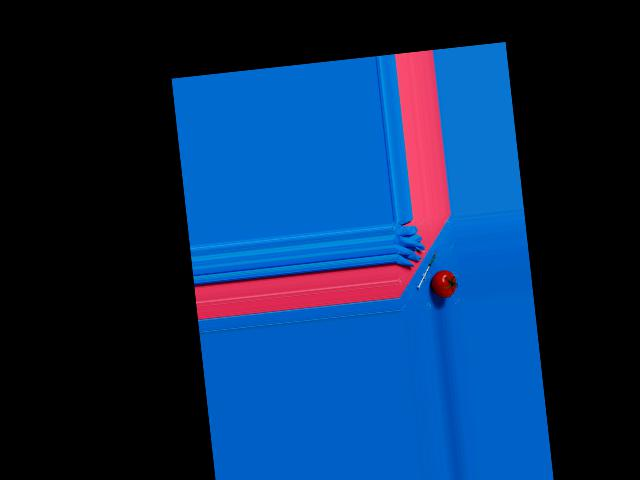tomato: (429, 269, 456, 298)
